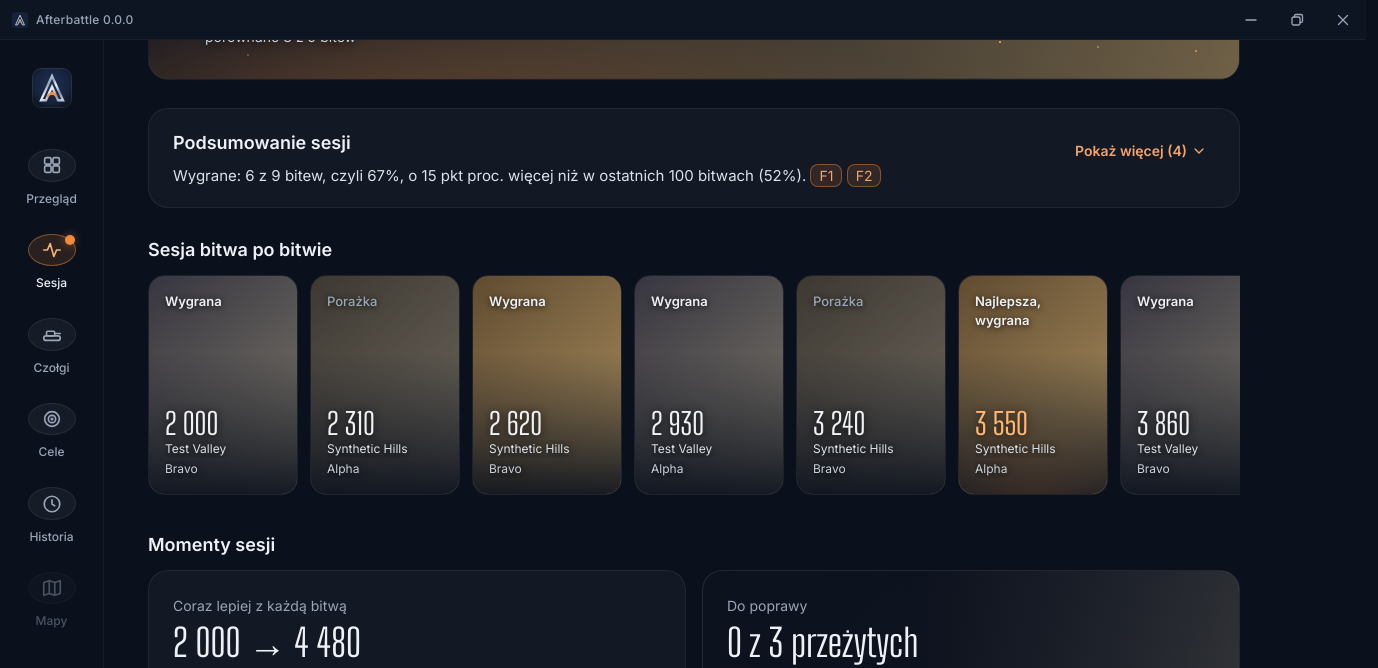
Test: Battle screen › opens History filtered by the battle's map from the map card
This screenshot has width=1378, height=668.
(page scrolled)
Click the button "Wygrana 2 000 Test Valley Bravo".
click(223, 385)  # box [148,275,298,495]
(page scrolled)
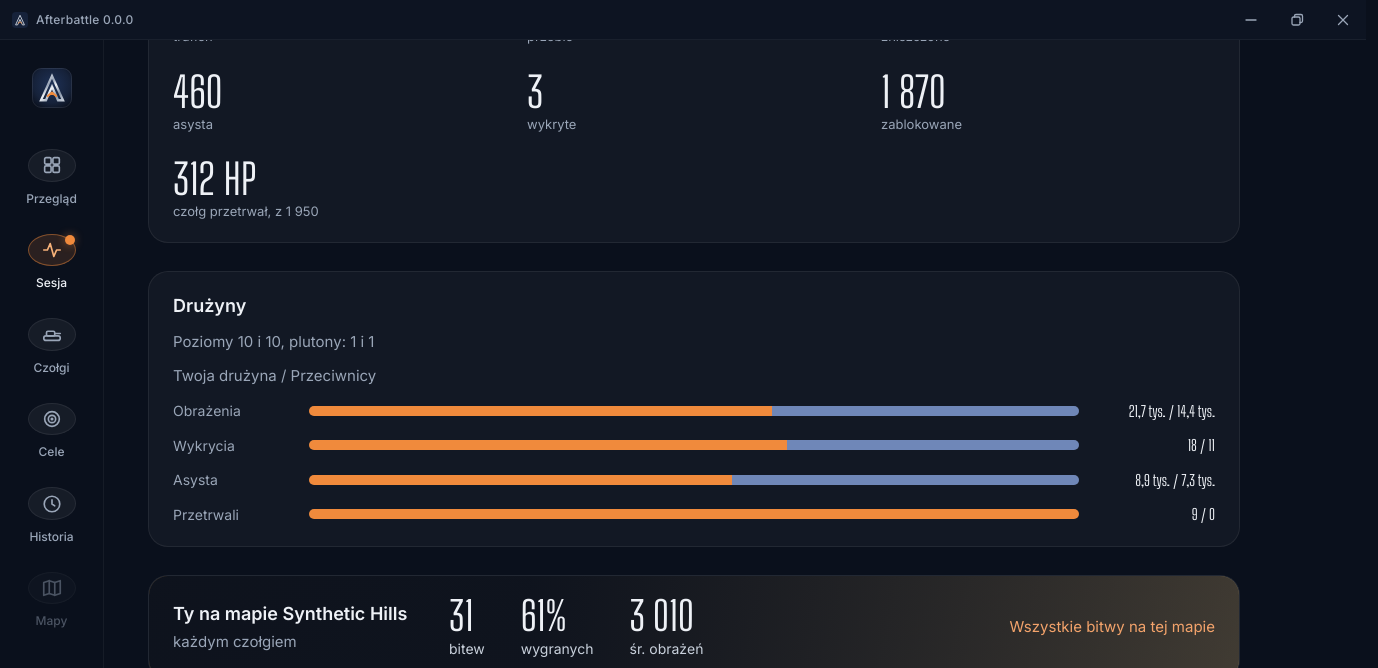
Click the button "Wszystkie bitwy na tej mapie".
click(1112, 627)  # box [1010,605,1215,649]
(page scrolled)
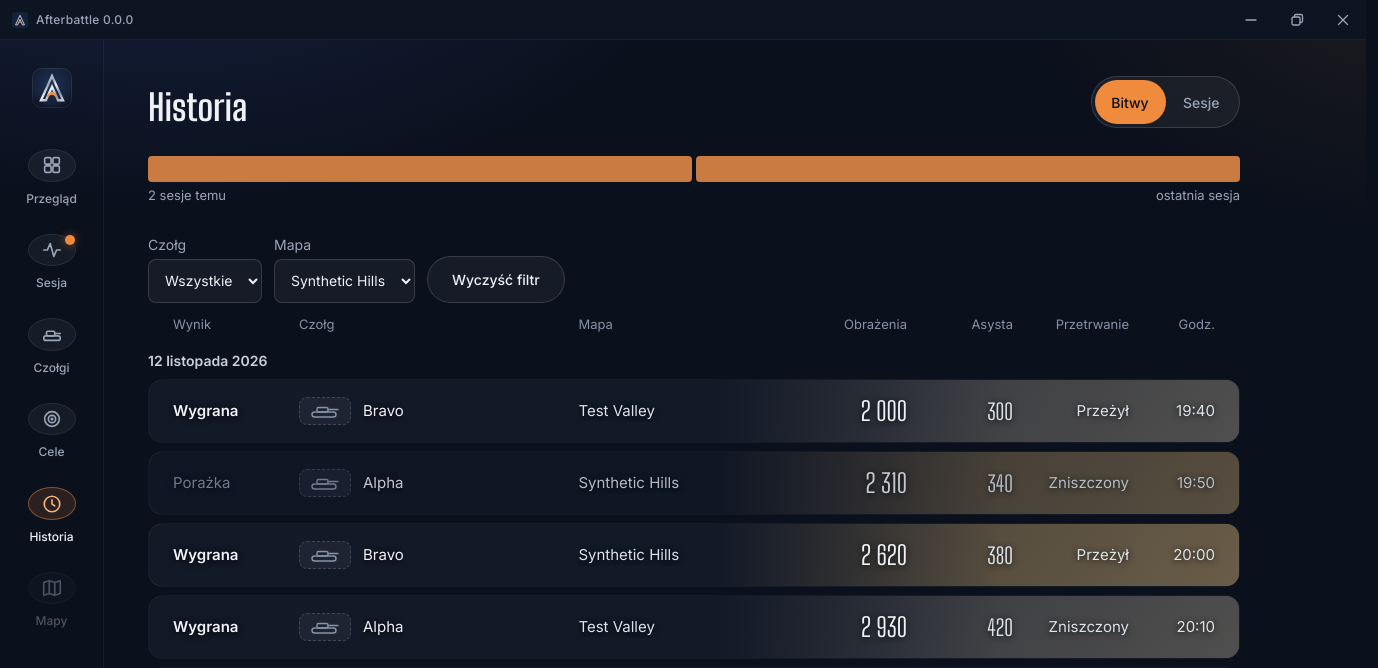
Now the heading "Historia" is shown, box [148,88,248,128]
Now the dropdown labelled "Mapa" shows "Synthetic Hills", box [274,258,415,302]
